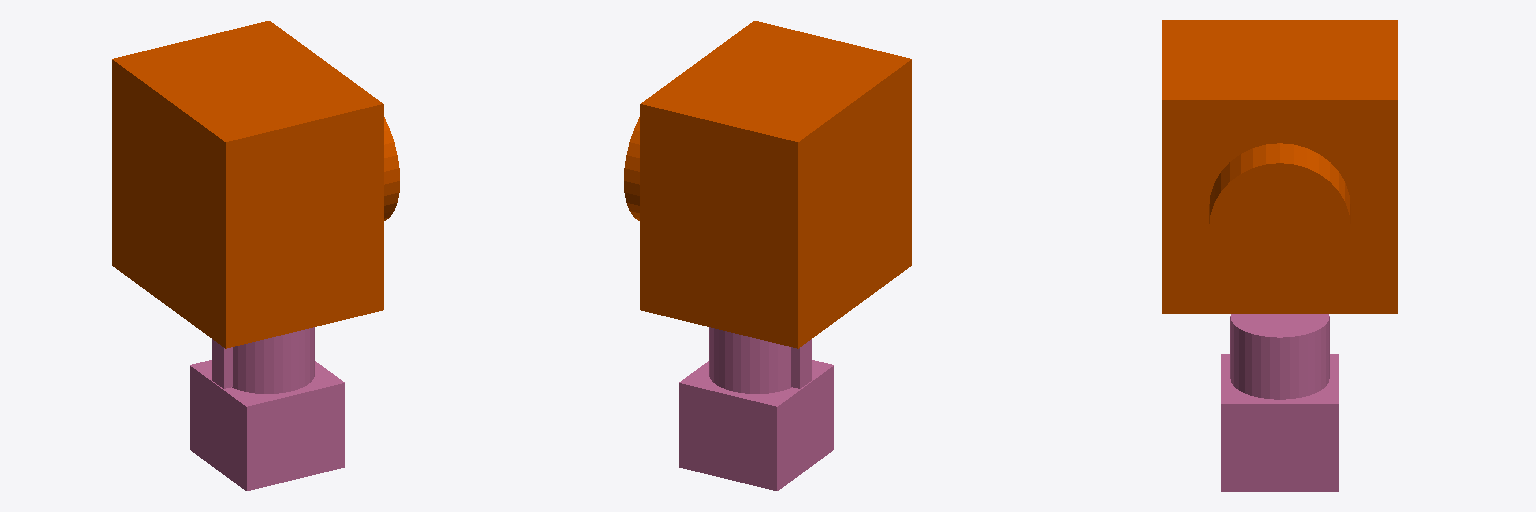
The robot description file, URDF, robot "robot":
<?xml version="1.0" ?>
<robot name="robot">
  <joint name="right_front" type="revolute">
    <parent link="base_link"/>
    <child link="right_front_wheel"/>
    <origin rpy="1.5707  0      0" xyz="0.125 -0.201  0.12"/>
    <axis xyz="0.00000000e+00   9.00000000e-05  -1.00000000e+00"/>
    <limit effort="0" lower="0" upper="0" velocity="0"/>
  </joint>
  <joint name="right_rear" type="revolute">
    <parent link="base_link"/>
    <child link="right_rear_wheel"/>
    <origin rpy="1.5707  0      0" xyz="-0.125 -0.201  0.12"/>
    <axis xyz="0.00000000e+00   9.00000000e-05  -1.00000000e+00"/>
    <limit effort="0" lower="0" upper="0" velocity="0"/>
  </joint>
  <joint name="left_front" type="revolute">
    <parent link="base_link"/>
    <child link="left_front_wheel"/>
    <origin rpy="1.5707  0      0" xyz="0.125  0.201  0.12"/>
    <axis xyz="0.00000000e+00   9.00000000e-05  -1.00000000e+00"/>
    <limit effort="0" lower="0" upper="0" velocity="0"/>
  </joint>
  <joint name="left_rear" type="revolute">
    <parent link="base_link"/>
    <child link="left_rear_wheel"/>
    <origin rpy="1.5707  0      0" xyz="-0.125  0.201  0.12"/>
    <axis xyz="0.00000000e+00   9.00000000e-05  -1.00000000e+00"/>
    <limit effort="0" lower="0" upper="0" velocity="0"/>
  </joint>
  <joint name="camera_joint" type="fixed">
    <parent link="base_link"/>
    <child link="camera_link"/>
    <origin rpy="0  0  0" xyz="0.1   0    0.45"/>
    <axis xyz="0  0  1"/>
    <limit effort="0.0" lower="0.0" upper="0.0" velocity="0.0"/>
  </joint>
  <joint name="hokuyo_joint" type="fixed">
    <parent link="base_link"/>
    <child link="hokuyo_link"/>
    <origin rpy="0  0  0" xyz="0.1   0    0.35"/>
    <axis xyz="0  0  1"/>
    <limit effort="0.0" lower="0.0" upper="0.0" velocity="0.0"/>
  </joint>
  <link name="base_link">
    <inertial>
      <mass value="14.0"/>
      <origin rpy="0  0  0" xyz="0    0    0.18"/>
      <inertia ixx="0.147116667" ixy="0.0" ixz="0.0" iyy="0.334951167" iyz="0.0" izz="0.3978345"/>
    </inertial>
    <collision name="collision1">
      <origin rpy="0  0  0" xyz="0    0    0.18"/>
      <geometry>
        <box size="0.501 0.300 0.19"/>
      </geometry>
    </collision>
    <visual name="visual1">
      <origin rpy="0  0  0" xyz="0    0    0.18"/>
      <geometry>
        <mesh filename="package://rvrl_description/meshes/p3at/chassis.dae" scale="1.0 1.0 1.0"/>
      </geometry>
    </visual>
  </link>
  <link name="right_front_wheel">
    <inertial>
      <mass value="1.5"/>
      <origin rpy="0  0  0" xyz="0  0  0"/>
      <inertia ixx="0.005240625" ixy="0" ixz="0" iyy="0.005240625" iyz="0" izz="0.009075"/>
    </inertial>
    <collision name="collision">
      <origin rpy="0  0  0" xyz="0  0  0"/>
      <geometry>
        <cylinder length="0.075" radius="0.110"/>
      </geometry>
    </collision>
    <visual name="visual">
      <origin rpy="0  0  0" xyz="0  0  0"/>
      <geometry>
        <mesh filename="package://rvrl_description/meshes/p3at/wheel.dae" scale="1.0 1.0 1.0"/>
      </geometry>
    </visual>
  </link>
  <link name="left_front_wheel">
    <inertial>
      <mass value="1.5"/>
      <origin rpy="0  0  0" xyz="0  0  0"/>
      <inertia ixx="0.005240625" ixy="0" ixz="0" iyy="0.005240625" iyz="0" izz="0.009075"/>
    </inertial>
    <collision name="collision">
      <origin rpy="0  0  0" xyz="0  0  0"/>
      <geometry>
        <cylinder length="0.075" radius="0.110"/>
      </geometry>
    </collision>
    <visual name="visual">
      <origin rpy="0  0  0" xyz="0  0  0"/>
      <geometry>
        <mesh filename="package://rvrl_description/meshes/p3at/wheel.dae" scale="1.0 1.0 1.0"/>
      </geometry>
    </visual>
  </link>
  <link name="right_rear_wheel">
    <inertial>
      <mass value="1.5"/>
      <origin rpy="0  0  0" xyz="0  0  0"/>
      <inertia ixx="0.005240625" ixy="0" ixz="0" iyy="0.005240625" iyz="0" izz="0.009075"/>
    </inertial>
    <collision name="collision">
      <origin rpy="0  0  0" xyz="0  0  0"/>
      <geometry>
        <cylinder length="0.075" radius="0.110"/>
      </geometry>
    </collision>
    <visual name="visual">
      <origin rpy="0  0  0" xyz="0  0  0"/>
      <geometry>
        <mesh filename="package://rvrl_description/meshes/p3at/wheel.dae" scale="1.0 1.0 1.0"/>
      </geometry>
    </visual>
  </link>
  <link name="left_rear_wheel">
    <inertial>
      <mass value="1.5"/>
      <origin rpy="0  0  0" xyz="0  0  0"/>
      <inertia ixx="0.005240625" ixy="0" ixz="0" iyy="0.005240625" iyz="0" izz="0.009075"/>
    </inertial>
    <collision name="collision">
      <origin rpy="0  0  0" xyz="0  0  0"/>
      <geometry>
        <cylinder length="0.075" radius="0.110"/>
      </geometry>
    </collision>
    <visual name="visual">
      <origin rpy="0  0  0" xyz="0  0  0"/>
      <geometry>
        <mesh filename="package://rvrl_description/meshes/p3at/wheel.dae" scale="1.0 1.0 1.0"/>
      </geometry>
    </visual>
  </link>
  <link name="camera_link">
    <inertial>
      <mass value="0.1"/>
      <origin rpy="0  0  0" xyz="0  0  0"/>
      <inertia ixx="0.000166667" ixy="0" ixz="0" iyy="0.000166667" iyz="0" izz="0.000166667"/>
    </inertial>
    <collision name="collision-box">
      <origin rpy="0  0  0" xyz="-0.01  0    0"/>
      <geometry>
        <box size="0.08 0.1 0.1"/>
      </geometry>
    </collision>
    <collision name="collision-lens">
      <origin rpy="0    1.57  0" xyz="0.04  0    0"/>
      <geometry>
        <cylinder length="0.02" radius="0.03"/>
      </geometry>
    </collision>
    <visual name="visual-box">
      <origin rpy="0  0  0" xyz="-0.01  0    0"/>
      <geometry>
        <box size="0.08 0.1 0.1"/>
      </geometry>
    </visual>
    <visual name="visual-lens">
      <origin rpy="0    1.57  0" xyz="0.04  0    0"/>
      <geometry>
        <cylinder length="0.02" radius="0.03"/>
      </geometry>
    </visual>
  </link>
  <link name="hokuyo_link">
    <inertial>
      <mass value="0.1"/>
      <origin rpy="0  0  0" xyz="0  0  0"/>
      <inertia ixx="0.6205208333e-04" ixy="0" ixz="0" iyy="0.6205208333e-04" iyz="0" izz="4.1927083333e-05"/>
    </inertial>
    <collision name="collision-base">
      <origin rpy="0  0  0" xyz="0      0     -0.0145"/>
      <geometry>
        <box size="0.05 0.05 0.041"/>
      </geometry>
    </collision>
    <collision name="collision-top">
      <origin rpy="0  0  0" xyz="0      0      0.0205"/>
      <geometry>
        <cylinder length="0.029" radius="0.021"/>
      </geometry>
    </collision>
    <visual name="visual-base">
      <origin rpy="0  0  0" xyz="0      0     -0.0145"/>
      <geometry>
        <box size="0.05 0.05 0.041"/>
      </geometry>
    </visual>
    <visual name="visual-top">
      <origin rpy="0  0  0" xyz="0      0      0.0205"/>
      <geometry>
        <cylinder length="0.029" radius="0.021"/>
      </geometry>
    </visual>
    <visual name="visual-top-back">
      <origin rpy="0  0  0" xyz="-0.02   0     0.019"/>
      <geometry>
        <box size="0.01 0.01 0.025"/>
      </geometry>
    </visual>
  </link>
  <transmission name="right_front_transmssion">
    <type>transmission_interface/SimpleTransmission</type>
    <joint name="right_front">
      <hardwareInterface>hardware_interface/EffortJointInterface</hardwareInterface>
      <mechanicalReduction>1</mechanicalReduction>
    </joint>
    <actuator name="right_front_motor">
      <hardwareInterface>hardware_interface/EffortJointInterface</hardwareInterface>
      <mechanicalReduction>1</mechanicalReduction>
    </actuator>
  </transmission>
  <transmission name="right_rear_transmssion">
    <type>transmission_interface/SimpleTransmission</type>
    <joint name="right_rear">
      <hardwareInterface>hardware_interface/EffortJointInterface</hardwareInterface>
      <mechanicalReduction>1</mechanicalReduction>
    </joint>
    <actuator name="right_rear_motor">
      <hardwareInterface>hardware_interface/EffortJointInterface</hardwareInterface>
      <mechanicalReduction>1</mechanicalReduction>
    </actuator>
  </transmission>
  <transmission name="left_front_transmssion">
    <type>transmission_interface/SimpleTransmission</type>
    <joint name="left_front">
      <hardwareInterface>hardware_interface/EffortJointInterface</hardwareInterface>
      <mechanicalReduction>1</mechanicalReduction>
    </joint>
    <actuator name="left_front_motor">
      <hardwareInterface>hardware_interface/EffortJointInterface</hardwareInterface>
      <mechanicalReduction>1</mechanicalReduction>
    </actuator>
  </transmission>
  <transmission name="left_rear_transmssion">
    <type>transmission_interface/SimpleTransmission</type>
    <joint name="left_rear">
      <hardwareInterface>hardware_interface/EffortJointInterface</hardwareInterface>
      <mechanicalReduction>1</mechanicalReduction>
    </joint>
    <actuator name="left_rear_motor">
      <hardwareInterface>hardware_interface/EffortJointInterface</hardwareInterface>
      <mechanicalReduction>1</mechanicalReduction>
    </actuator>
  </transmission>
</robot>

--- Render facts (derived) ---
Views: 3 orthographic renders of the robot side by side, from view 1: azimuth 30°, elevation 25°; view 2: azimuth 150°, elevation 25°; view 3: azimuth 270°, elevation 25°.
Robot: robot — 7 links, 6 joints (4 revolute, 2 fixed); root link base_link; default pose: all joints at 0.
Links seen in each view (by area): view 1: camera_link, hokuyo_link; view 2: camera_link, hokuyo_link; view 3: camera_link, hokuyo_link.
Link boxes in pixels (left/top/right/bottom): camera_link: left=112, top=21, right=399, bottom=348; hokuyo_link: left=190, top=327, right=344, bottom=490; camera_link: left=624, top=21, right=911, bottom=348; hokuyo_link: left=679, top=327, right=833, bottom=490; camera_link: left=1162, top=20, right=1397, bottom=313; hokuyo_link: left=1221, top=314, right=1338, bottom=491.
Size in the robot's own frame: 0.1 by 0.1 by 0.185 metres.
0 mesh visuals loaded from 2 distinct referenced files (none loaded); not drawn: 5 (reference not matched to a file when rendering).